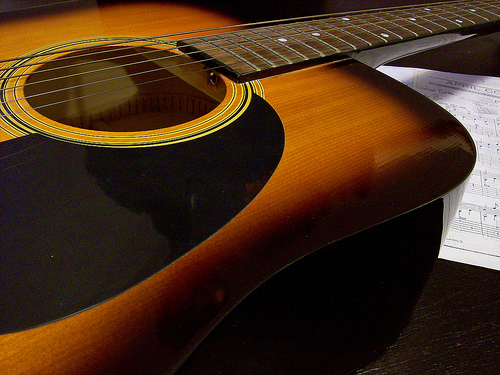guitar: (1, 1, 500, 375)
